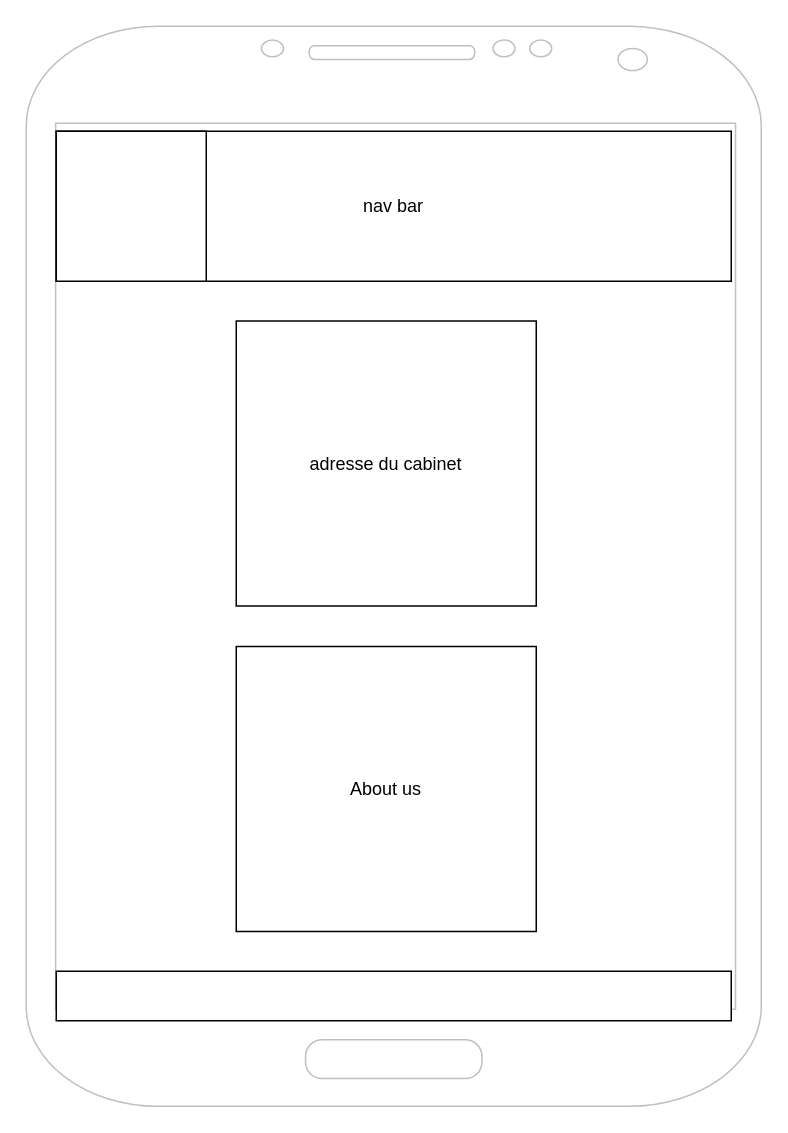
The diagram is 788 pixels wide and 1133 high, and some of its shapes have lost their labels. Here are the shapes that lost their labels. From the top down, the box of each, then its label:
(55, 130, 206, 281): nom de l'entreprise
(55, 970, 731, 1021): footer
